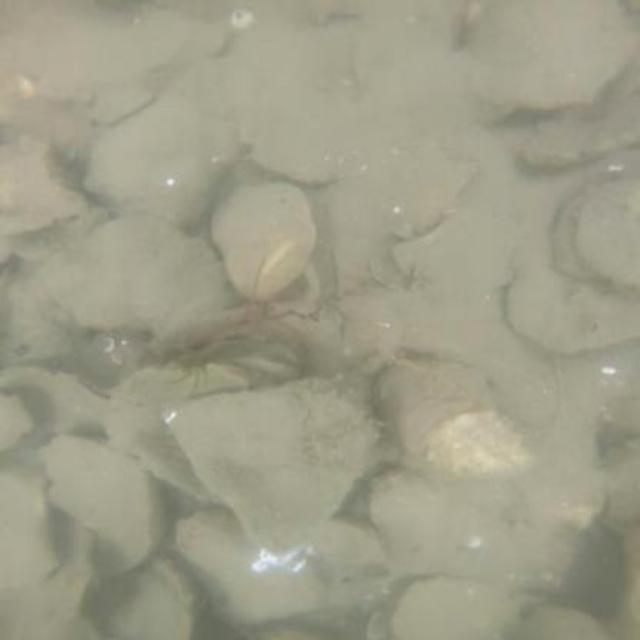Oyster-Closed: (154, 372, 388, 556), (173, 507, 403, 625), (39, 216, 238, 336), (454, 0, 632, 123), (366, 348, 534, 473), (36, 436, 173, 578), (86, 94, 215, 224), (504, 247, 640, 354), (210, 179, 319, 303), (389, 575, 529, 639), (0, 138, 85, 238), (574, 181, 638, 292), (106, 562, 196, 640)
